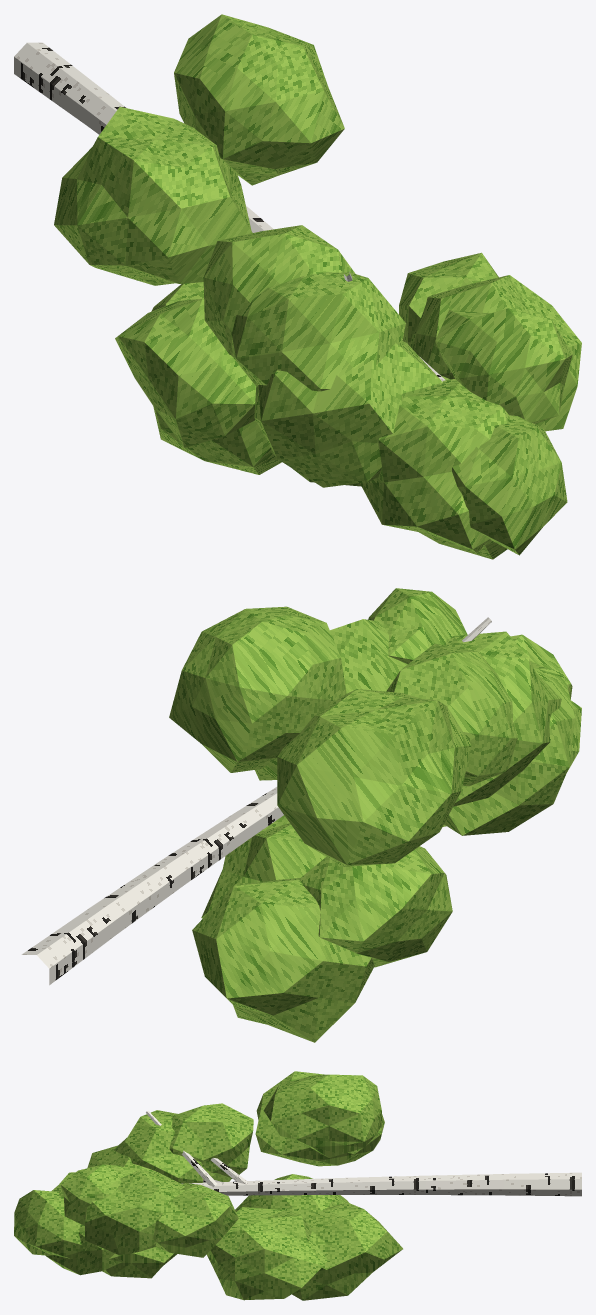
The model's file is birch_tree.glb.
3 renders of one model, top to bottom at view 1: azimuth 30°, elevation 25°; view 2: azimuth 150°, elevation 25°; view 3: azimuth 270°, elevation 25°, orthographic. The views are drawn at different scales.
Visible parts, largest first — view 1: leaves, bark; view 2: leaves, bark; view 3: leaves, bark.
Part boxes in pixels (bbox=[...]): leaves: bbox=[54, 14, 581, 559]; bark: bbox=[14, 42, 445, 381]; leaves: bbox=[169, 588, 581, 1042]; bark: bbox=[21, 617, 491, 985]; leaves: bbox=[14, 1071, 402, 1300]; bark: bbox=[146, 1110, 581, 1196].
Bounding box in the file's own units: 2.8 × 3.31 × 7.46.
2 materials, 2 textured.
